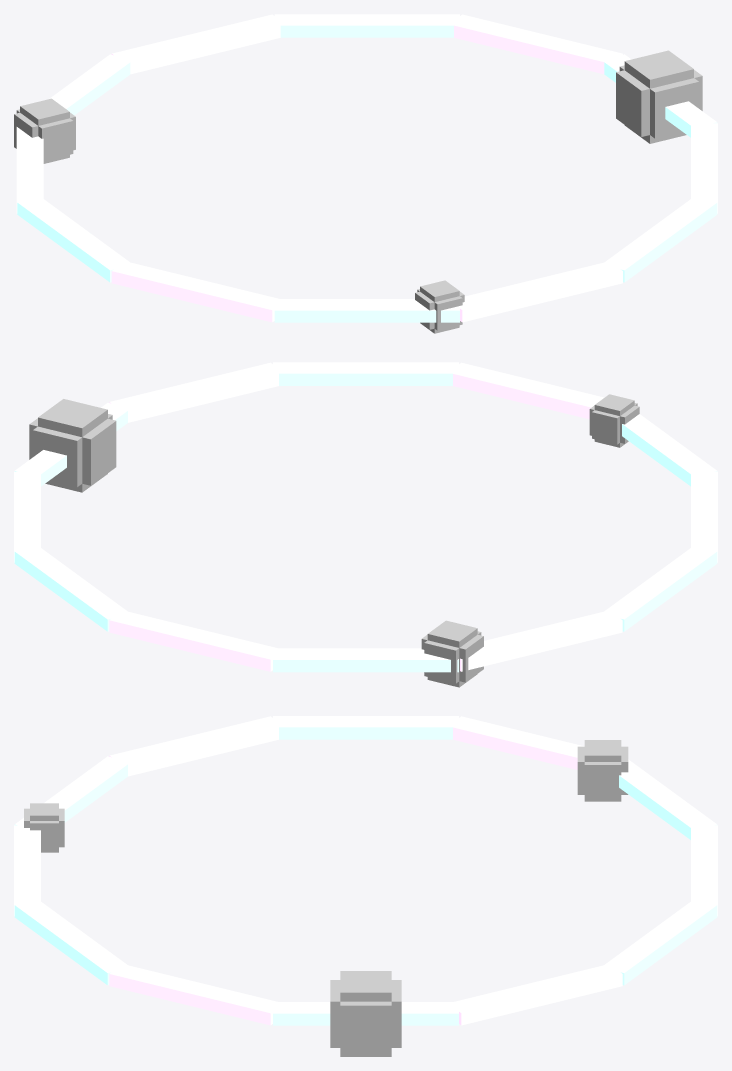
File: MutRing.fbx
The picture shows the model from 3 angles, top to bottom: view 1: azimuth 30°, elevation 25°; view 2: azimuth 150°, elevation 25°; view 3: azimuth 270°, elevation 25°; orthographic projection.
Parts seen in each view (by area): view 1: Mut Ring_body_2, Mut Ring_body_7, Mut Ring_body_9, Mut Ring_body_3, Mut Ring_body_1, Mut Ring_body_8, Mut Ring_body_6, Mut Ring_body_10, Mut Ring_body_4, Mut Ring_body_11, Mut Ring_body_14, Mut Ring_body_12 (+8 smaller); view 2: Mut Ring_body_10, Mut Ring_body_4, Mut Ring_body_3, Mut Ring_body_11, Mut Ring_body_5, Mut Ring_body_9, Mut Ring_body_2, Mut Ring_body_6, Mut Ring_body_8, Mut Ring_body_7, Mut Ring_body_1, Mut Ring_body_12 (+8 smaller); view 3: Mut Ring_body_6, Mut Ring_body_1, Mut Ring_body_11, Mut Ring_body_7, Mut Ring_body_10, Mut Ring_body_2, Mut Ring_body_5, Mut Ring_body_0, Mut Ring_body_4, Mut Ring_body_12, Mut Ring_body_8, Mut Ring_body_3 (+8 smaller).
Part boxes in pixels (box(x1,y1,x2,y2)): Mut Ring_body_2: box(274, 14, 459, 37); Mut Ring_body_7: box(111, 262, 285, 322); Mut Ring_body_9: box(458, 261, 622, 322); Mut Ring_body_3: box(111, 14, 285, 74); Mut Ring_body_1: box(449, 14, 622, 74); Mut Ring_body_8: box(274, 299, 459, 322); Mut Ring_body_6: box(17, 199, 132, 282); Mut Ring_body_10: box(605, 197, 717, 282); Mut Ring_body_4: box(49, 54, 132, 115); Mut Ring_body_11: box(691, 123, 717, 213); Mut Ring_body_14: box(624, 50, 693, 143); Mut Ring_body_12: box(616, 70, 702, 136); Mut Ring_body_10: box(273, 362, 458, 385); Mut Ring_body_4: box(273, 648, 458, 672); Mut Ring_body_3: box(109, 612, 283, 671); Mut Ring_body_11: box(109, 362, 283, 422); Mut Ring_body_5: box(460, 610, 622, 671); Mut Ring_body_9: box(451, 362, 604, 419); Mut Ring_body_2: box(14, 548, 130, 631); Mut Ring_body_6: box(603, 547, 717, 631); Mut Ring_body_8: box(622, 414, 717, 486); Mut Ring_body_7: box(691, 471, 717, 562); Mut Ring_body_1: box(14, 471, 40, 562); Mut Ring_body_12: box(29, 418, 116, 485); Mut Ring_body_6: box(273, 716, 458, 739); Mut Ring_body_1: box(450, 965, 622, 1025); Mut Ring_body_11: box(109, 965, 277, 1025); Mut Ring_body_7: box(109, 716, 282, 776); Mut Ring_body_10: box(14, 899, 130, 985); Mut Ring_body_2: box(601, 899, 717, 985); Mut Ring_body_5: box(448, 716, 584, 769); Mut Ring_body_0: box(273, 1002, 458, 1025); Mut Ring_body_4: box(619, 759, 717, 839); Mut Ring_body_12: box(340, 1001, 391, 1051); Mut Ring_body_8: box(14, 756, 130, 826); Mut Ring_body_3: box(691, 825, 717, 916).
Bounding box in the file's own units: 429 × 42 × 416.
